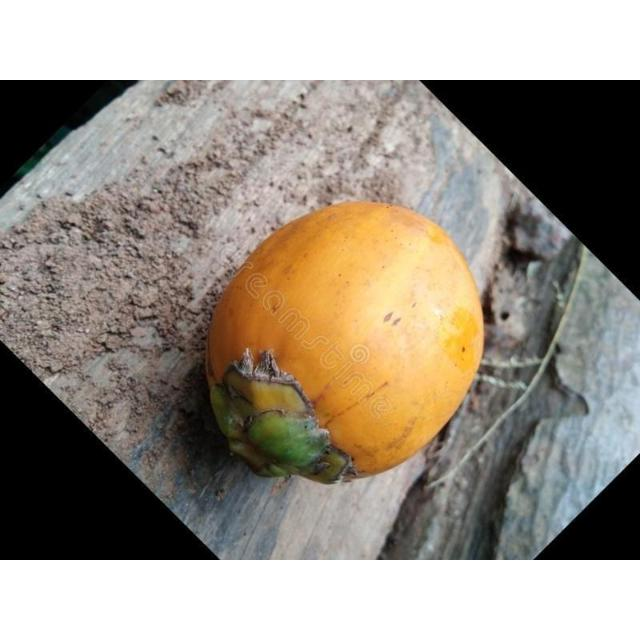good: (203, 202, 486, 486)
